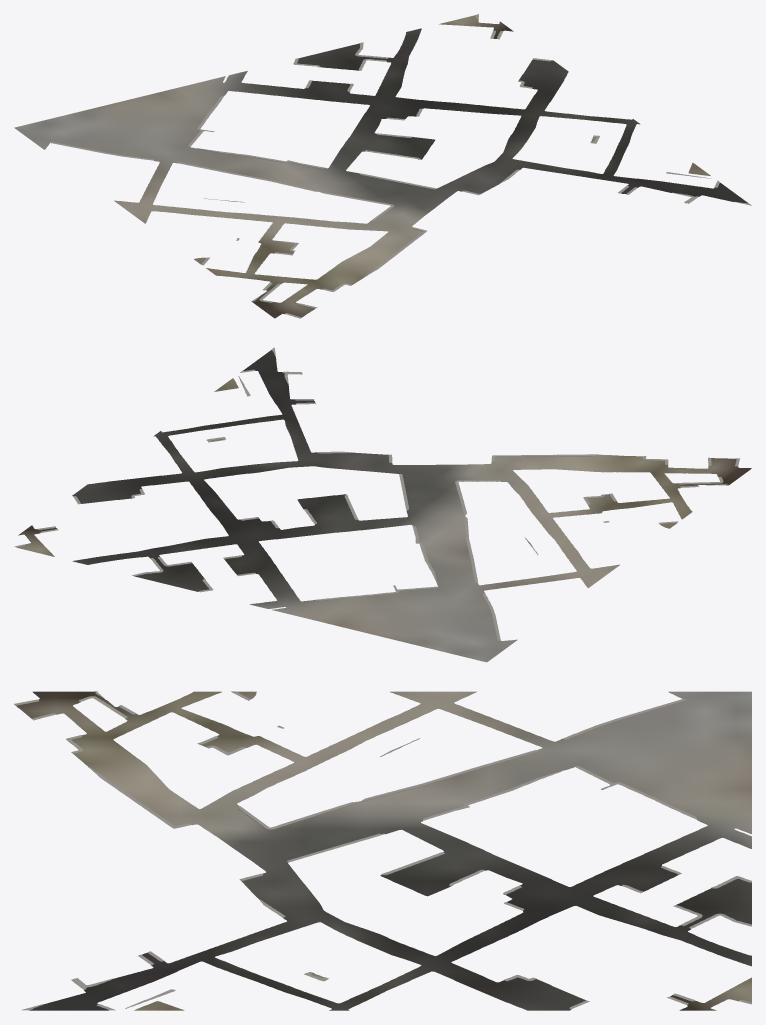
Rendered from RUA_PELOURINHO.fbx.
3 renders of one model, top to bottom at view 1: azimuth 30°, elevation 25°; view 2: azimuth 150°, elevation 25°; view 3: azimuth 270°, elevation 25°, orthographic. The views are drawn at different scales.
Visible parts, largest first — view 1: Ruas_Pe_de_Moleque, Meio_Fio_Laje; view 2: Ruas_Pe_de_Moleque, Meio_Fio_Laje; view 3: Ruas_Pe_de_Moleque, Meio_Fio_Laje.
Boxes of the visible parts, <box> form: Ruas_Pe_de_Moleque: <box>14,15,748,318</box>; Meio_Fio_Laje: <box>50,14,751,318</box>; Ruas_Pe_de_Moleque: <box>17,350,751,662</box>; Meio_Fio_Laje: <box>14,347,739,641</box>; Ruas_Pe_de_Moleque: <box>16,691,751,1010</box>; Meio_Fio_Laje: <box>14,691,751,1010</box>.
Size of the model in its own units: 209 by 0.12 by 204.
